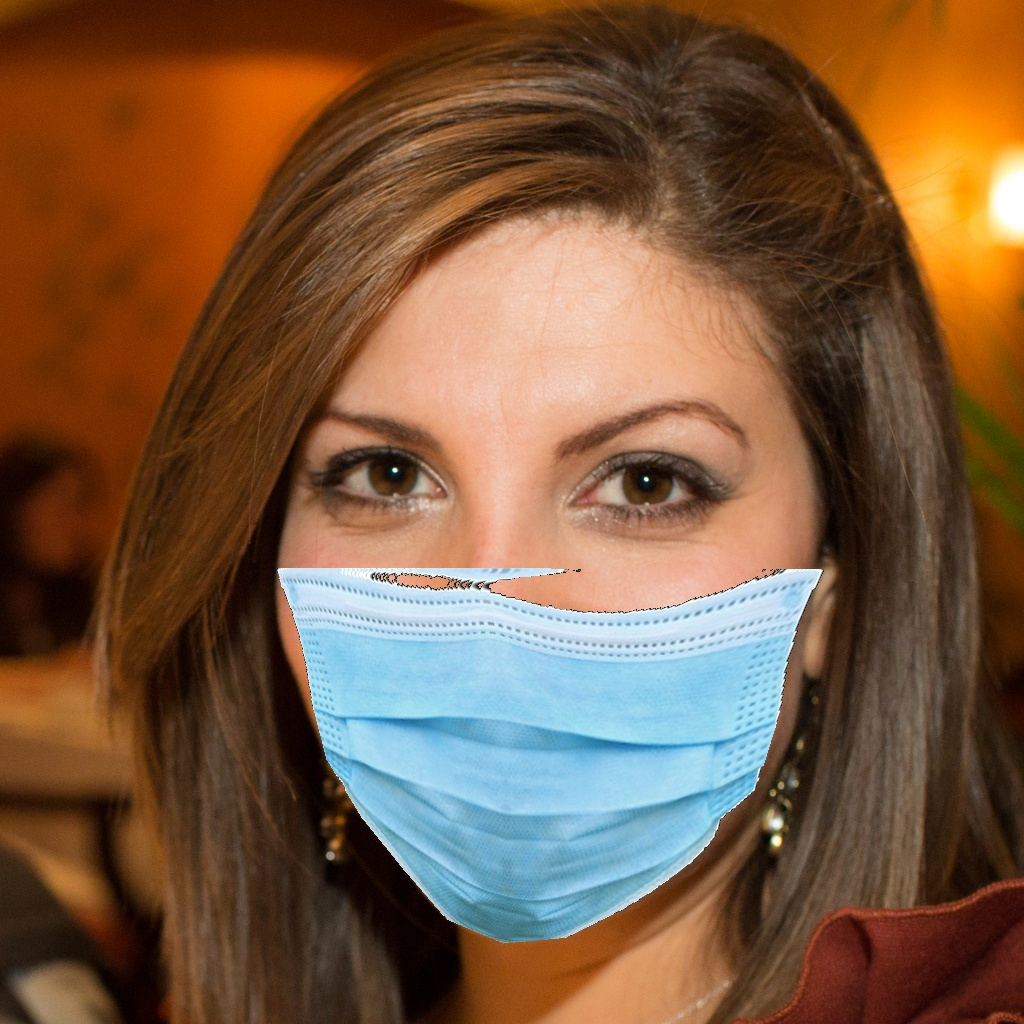with_mask: (280, 399, 823, 948)
